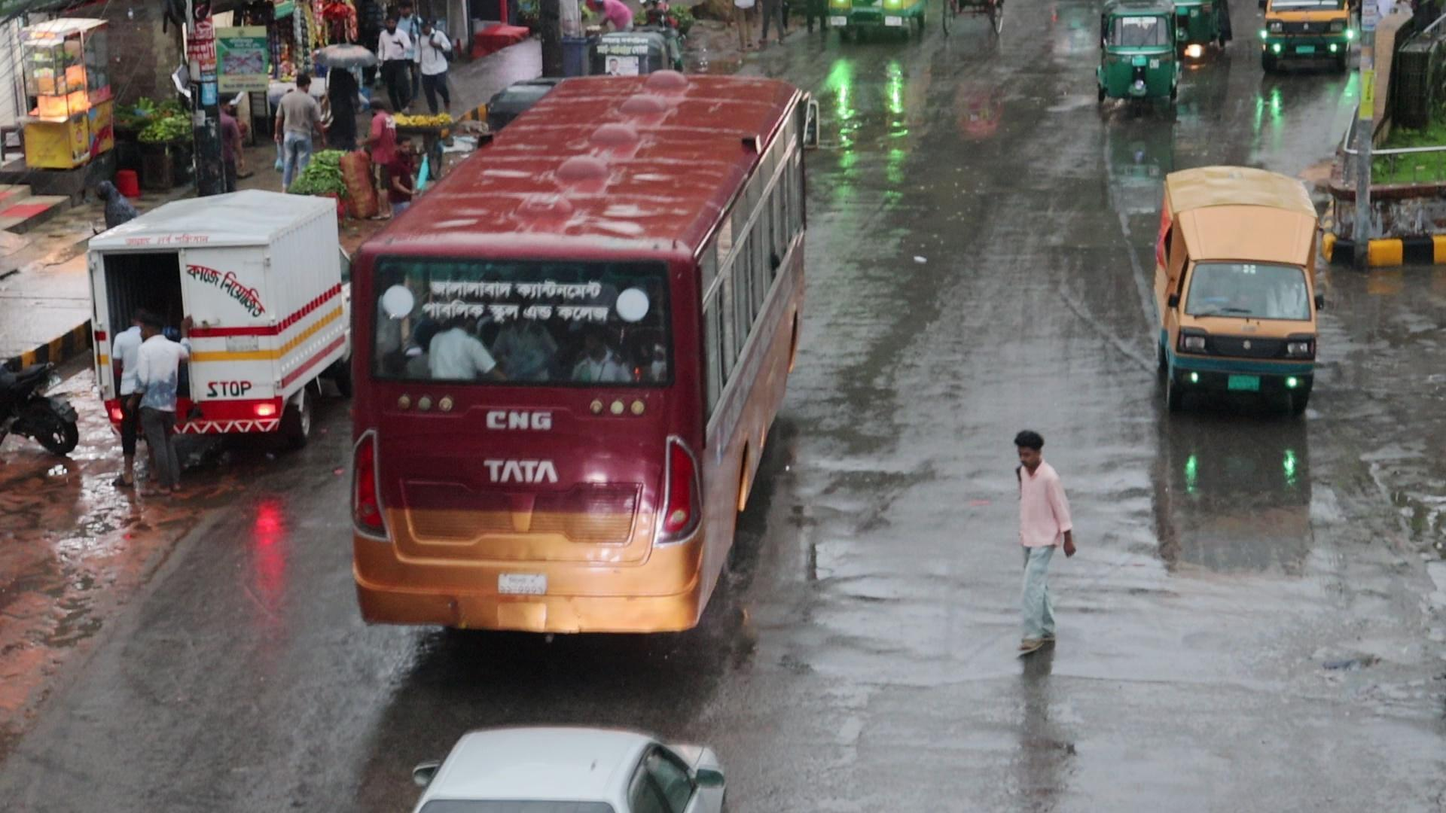Bus: (339, 65, 822, 640)
Truck: (1153, 163, 1326, 417)
